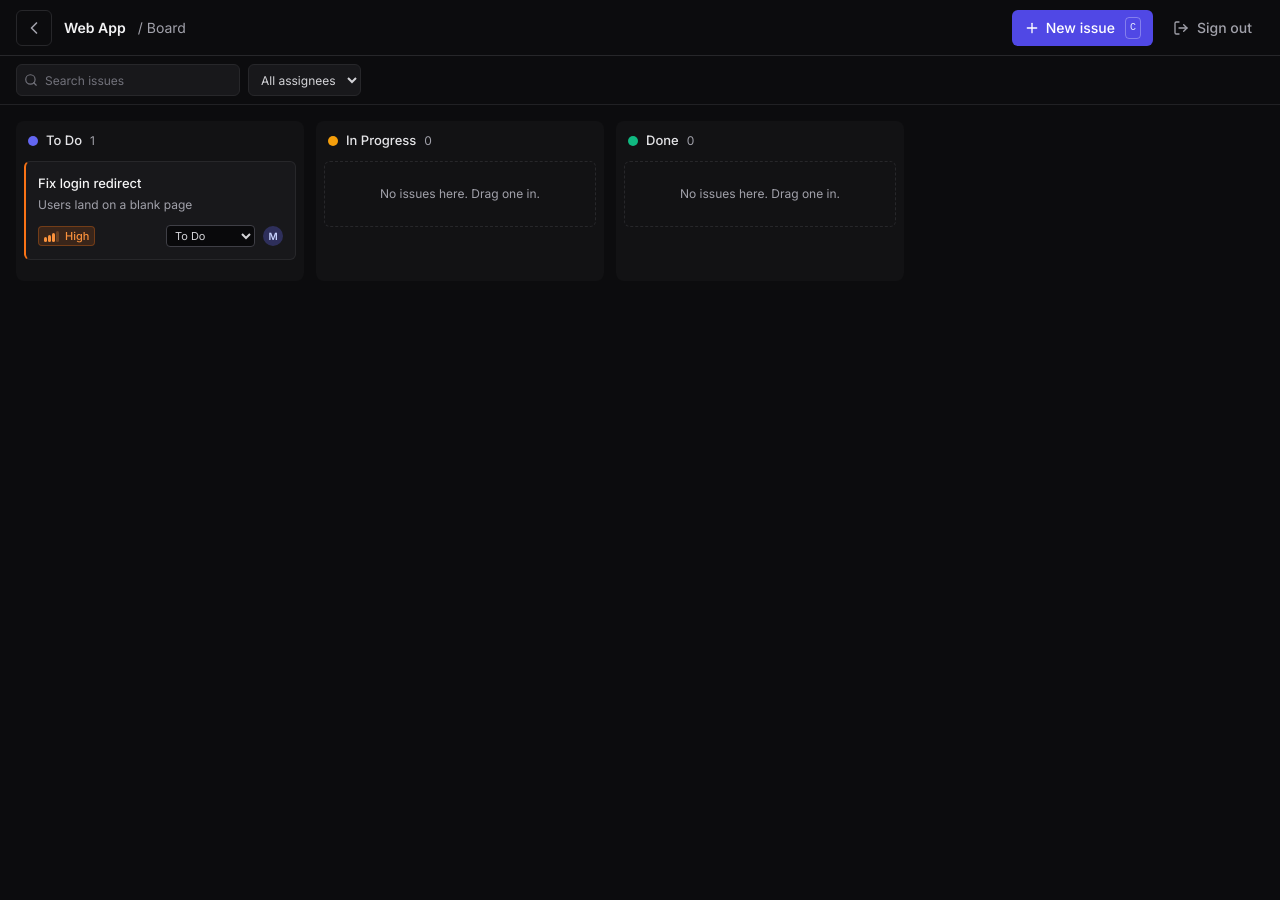
BoardClient › edits priority from the issue details and sends only the change
Click the button "Fix login redirect". click: {"x": 160, "y": 183}
box: [38,174,283,193]
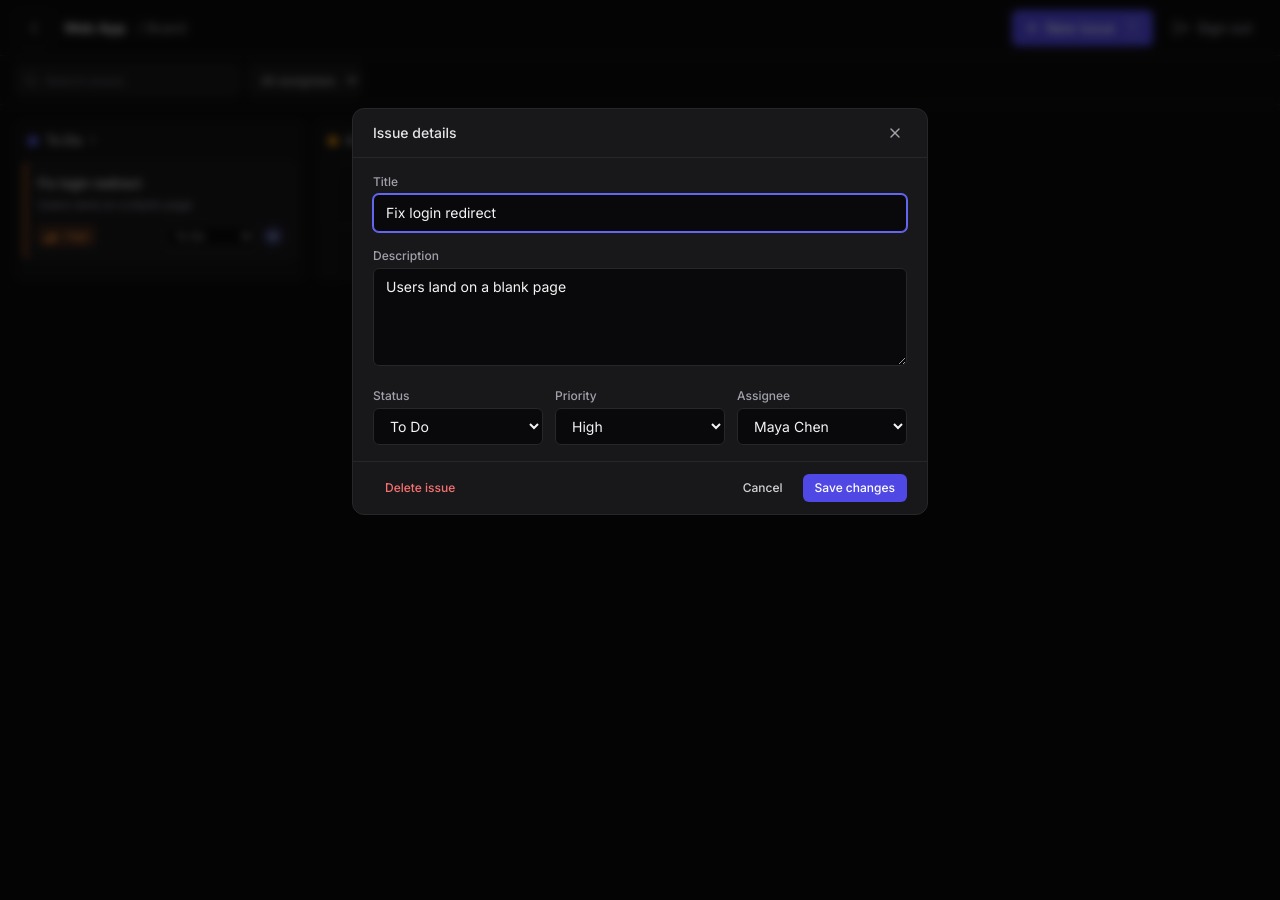
Check: the text box labelled "Description" holds "Users land on a blank page", box [373,268,907,366]
Check: the dropdown labelled "Assignee" shows "Maya Chen", box [737,408,907,445]
Select "Low" in the dropdown labelled "Priority". click: {"x": 640, "y": 426}
box: [555,408,725,445]
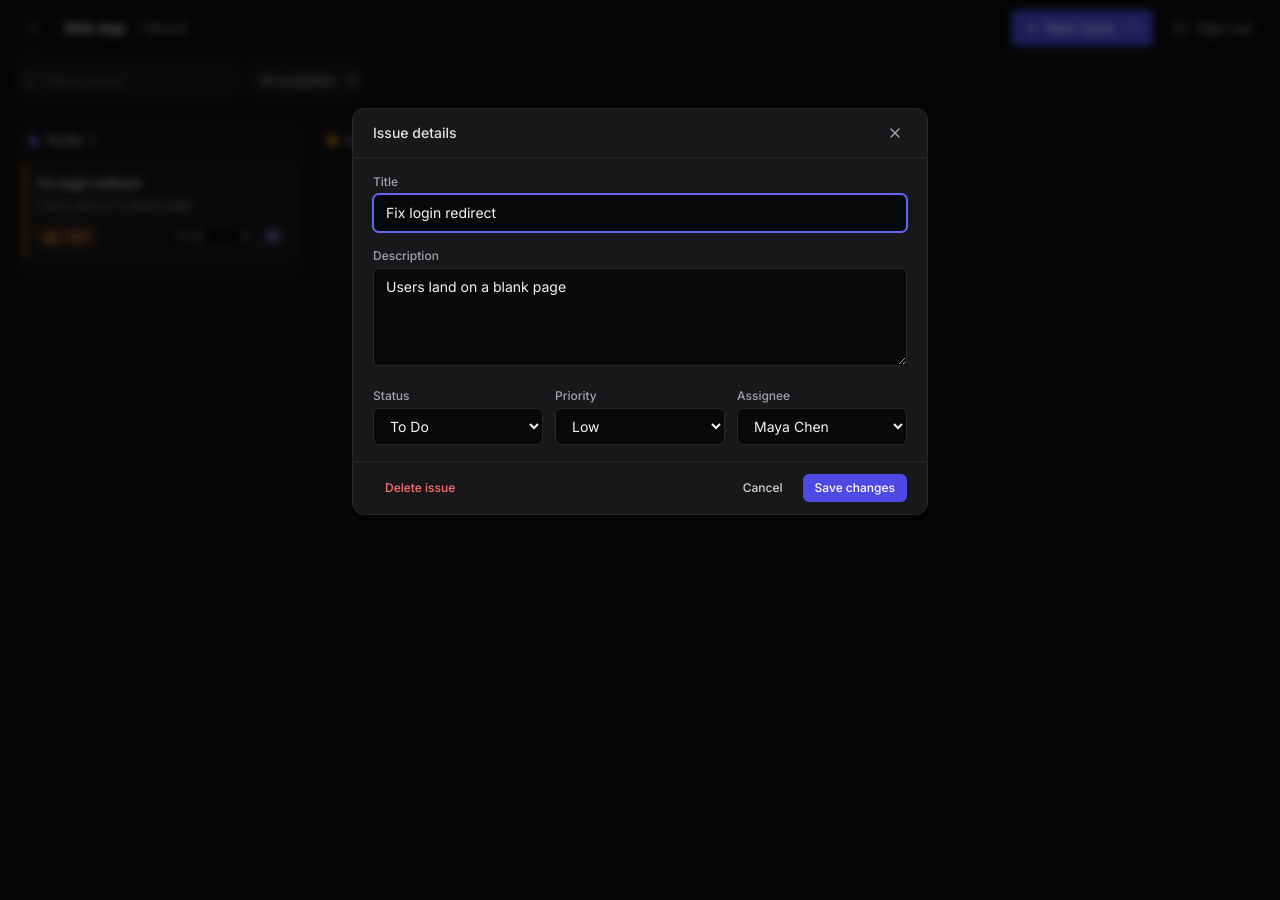
Click the button "Save changes". click: {"x": 855, "y": 488}
box: [803,474,907,502]
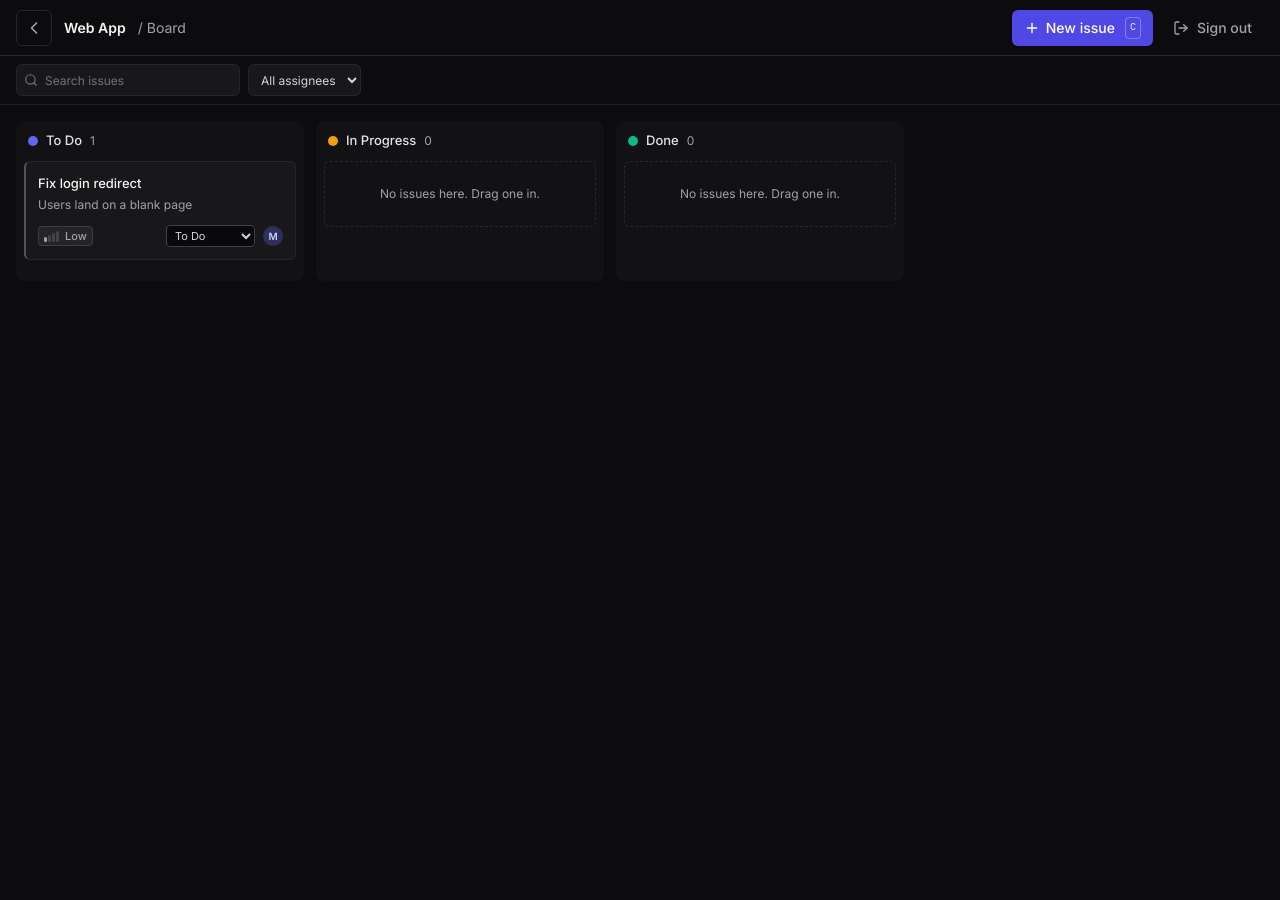
Check: the dialog is gone
Check: the element with test id "priority-badge" reads "Low", box [65,229,87,243]
